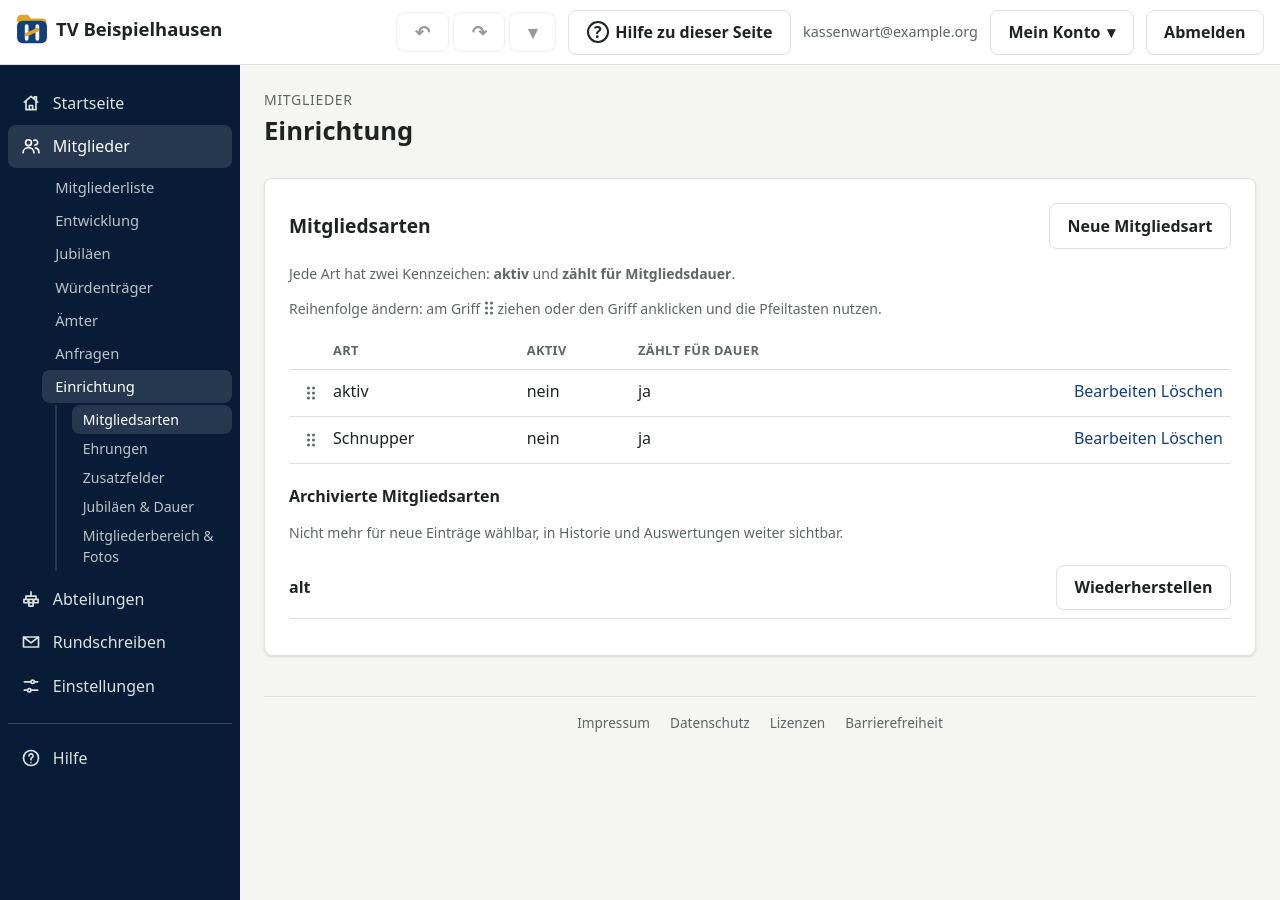
it: Mitgliedsarten löschen › löscht eine unbenutzte Art und stellt archivierte wieder her
expect the heading "Archivierte Mitgliedsarten" is shown: met, box [289,484,500,506]
Click the button with aria-label "Schnupper löschen": (1192, 438) [1161,426,1223,450]
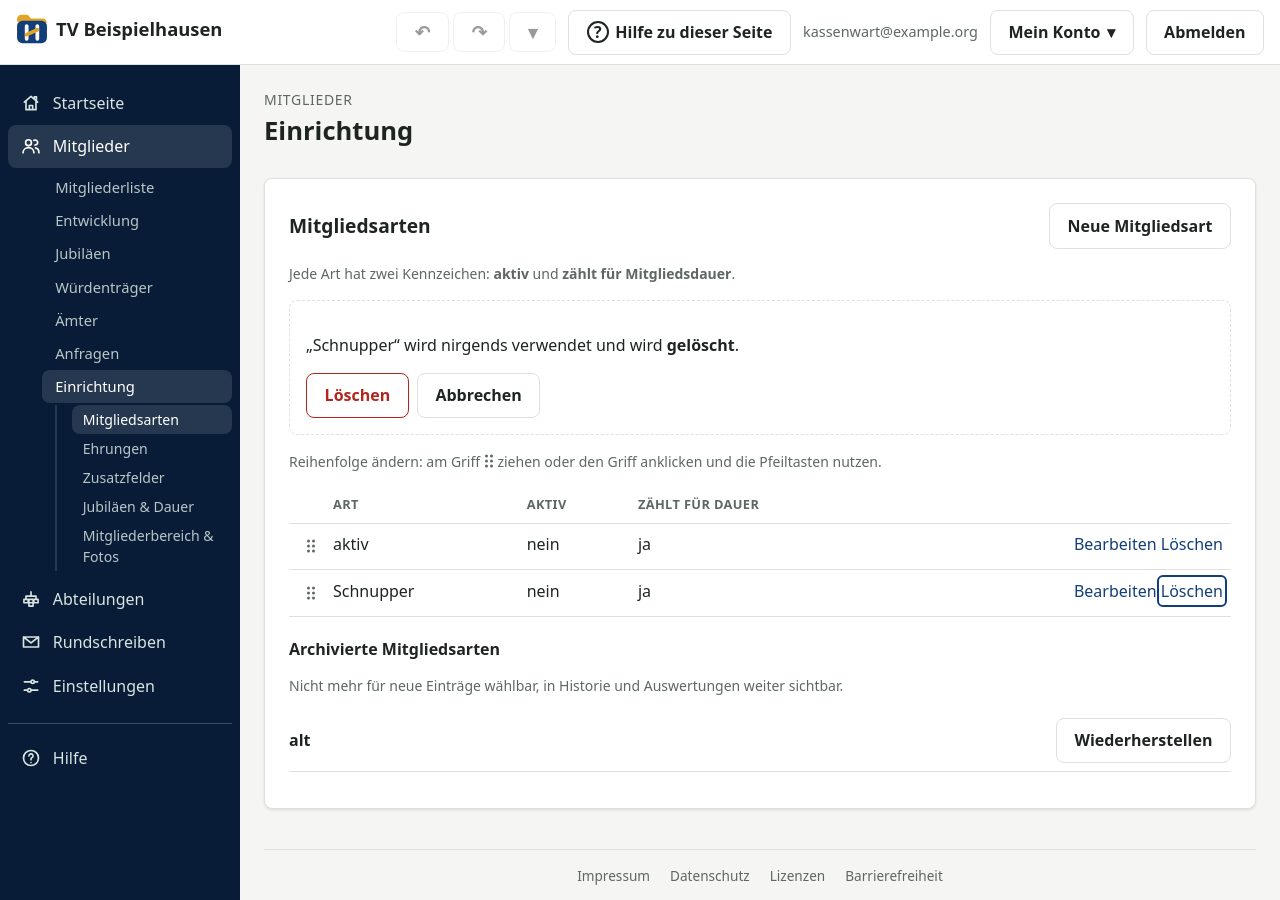
expect the text "„Schnupper“ wird nirgends verwendet und wird gelöscht." is shown: met, box [306,334,739,356]
Click the button "Löschen" below "gelöscht": (357, 395) [306,372,409,418]
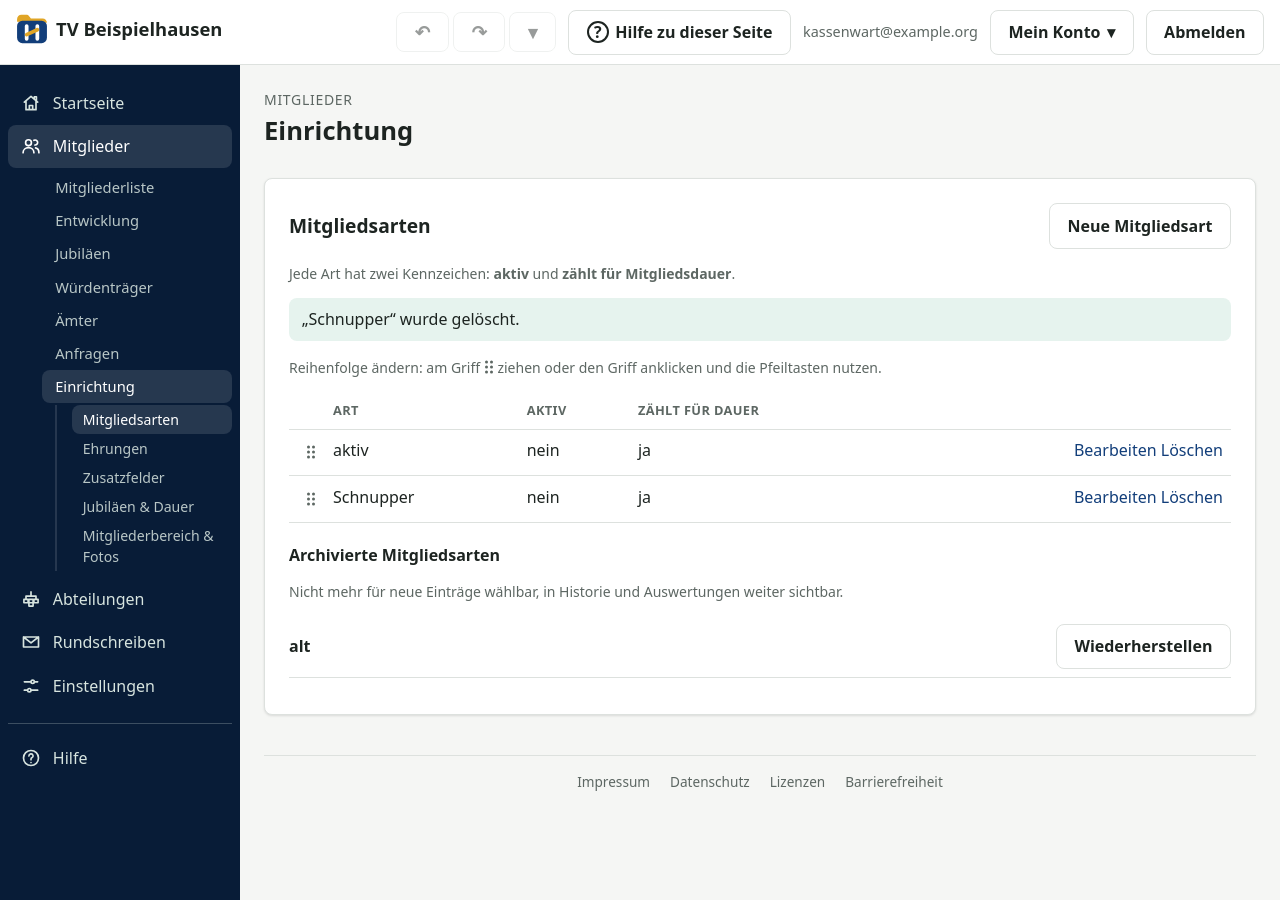
expect the text "„Schnupper“ wurde gelöscht." is shown: met, box [289,298,1231,341]
Click the button "Wiederherstellen": (1143, 646) [1056,624,1231,669]
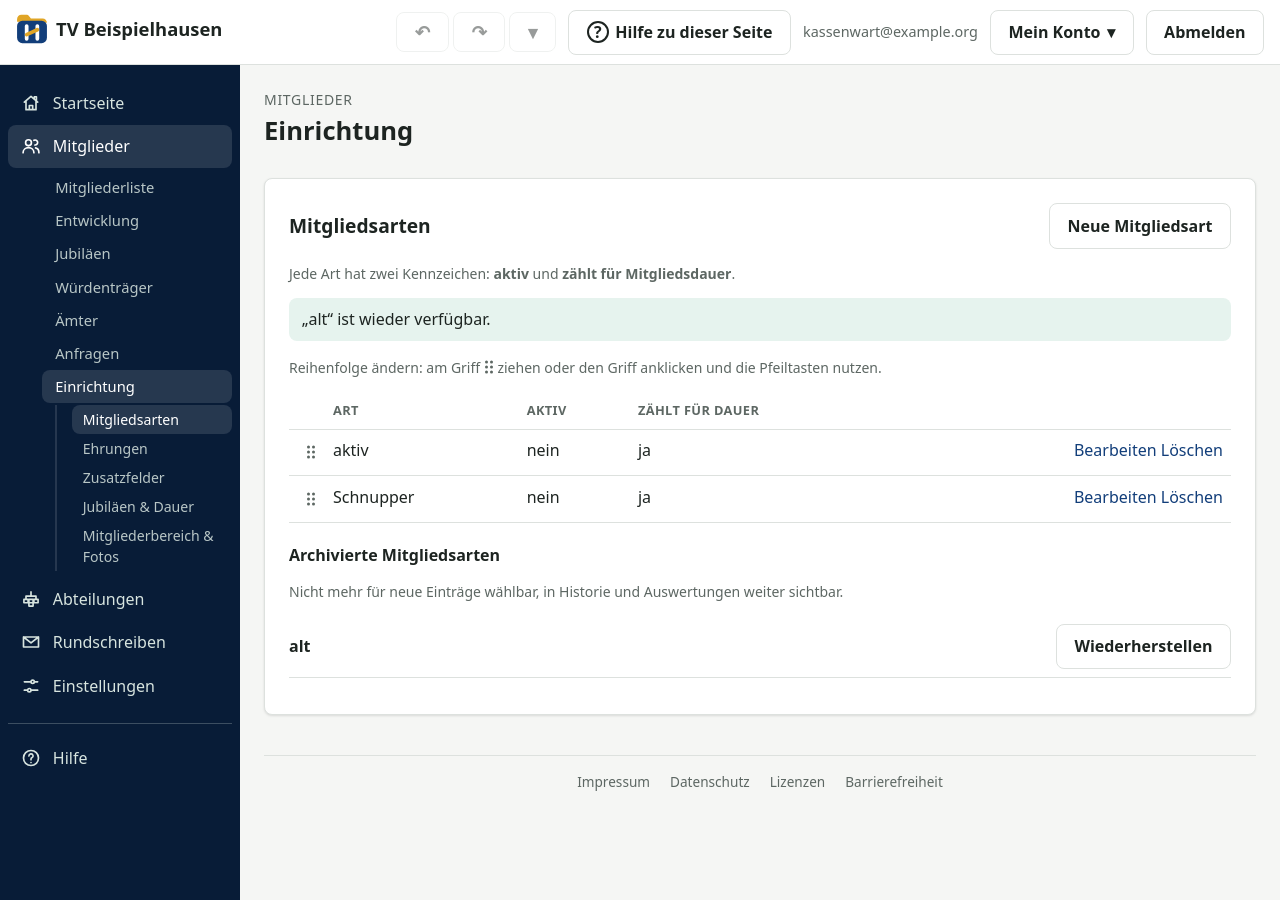
expect the text "„alt“ ist wieder verfügbar." is shown: met, box [289,298,1231,341]
